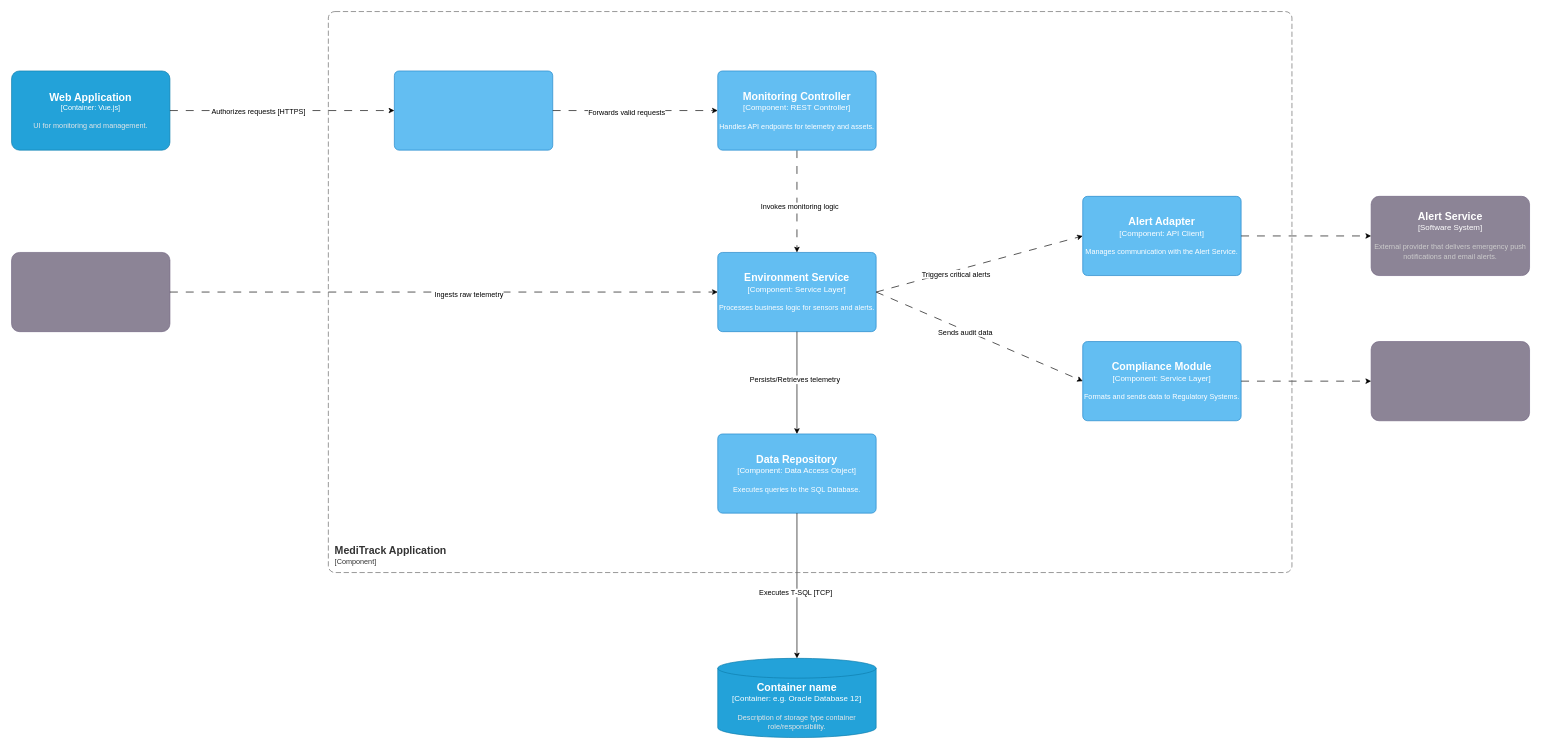
The diagram is 1541 pixels wide and 749 high, and some of its shapes have lost their labels. Each missing label, with the centre of its shape:
Auth Component [Component: JWT] Validates user identity and access tokens.: [473,110]
IoT Sensors [Software System] Hardware transmitting telemetry data.: [90,292]
Regulatory System [Software System] Government auditing platform.: [1450,381]
